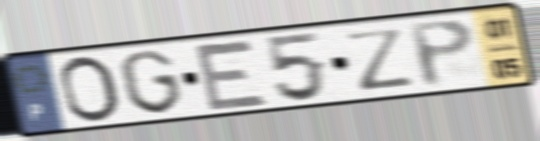5: (260, 29, 332, 104)
E: (190, 38, 273, 113)
G: (116, 47, 186, 116)
O: (57, 53, 125, 126)
P: (405, 16, 478, 90)
Z: (342, 25, 418, 93)
